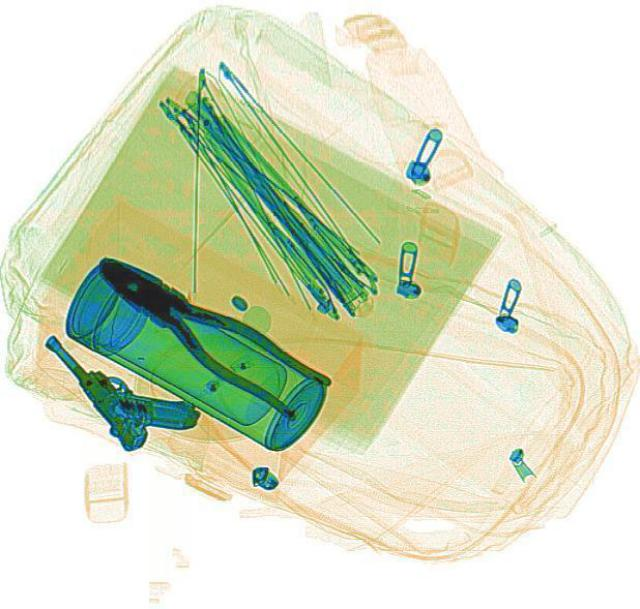Gun: (36, 299, 204, 464)
Pliers: (78, 234, 332, 425)
